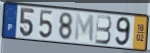5: (19, 6, 36, 38), (39, 9, 54, 40)
8: (58, 12, 74, 41)
9: (114, 16, 132, 48)
B: (95, 14, 113, 46)
M: (74, 13, 95, 44)
